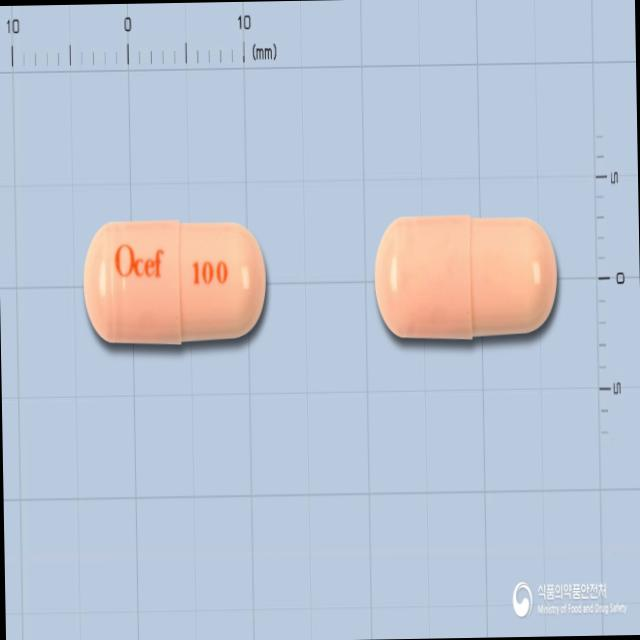Omnicef Cap: (82, 216, 268, 348)
